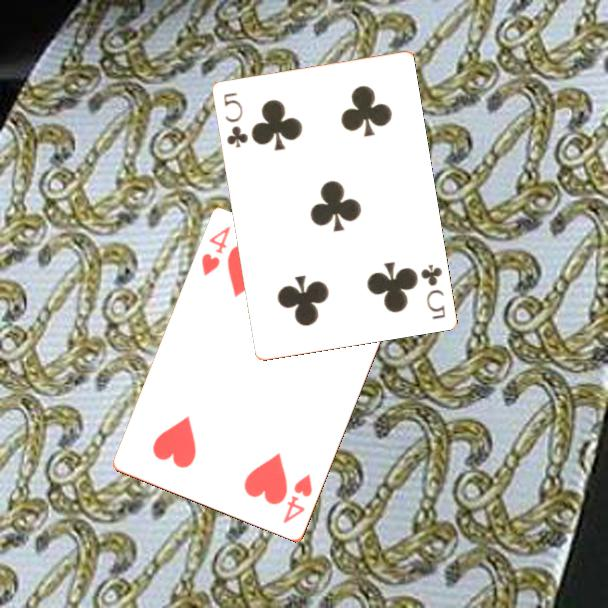c05: (219, 89, 251, 150), (417, 260, 448, 322)
h04: (198, 223, 234, 279), (280, 471, 315, 527)
